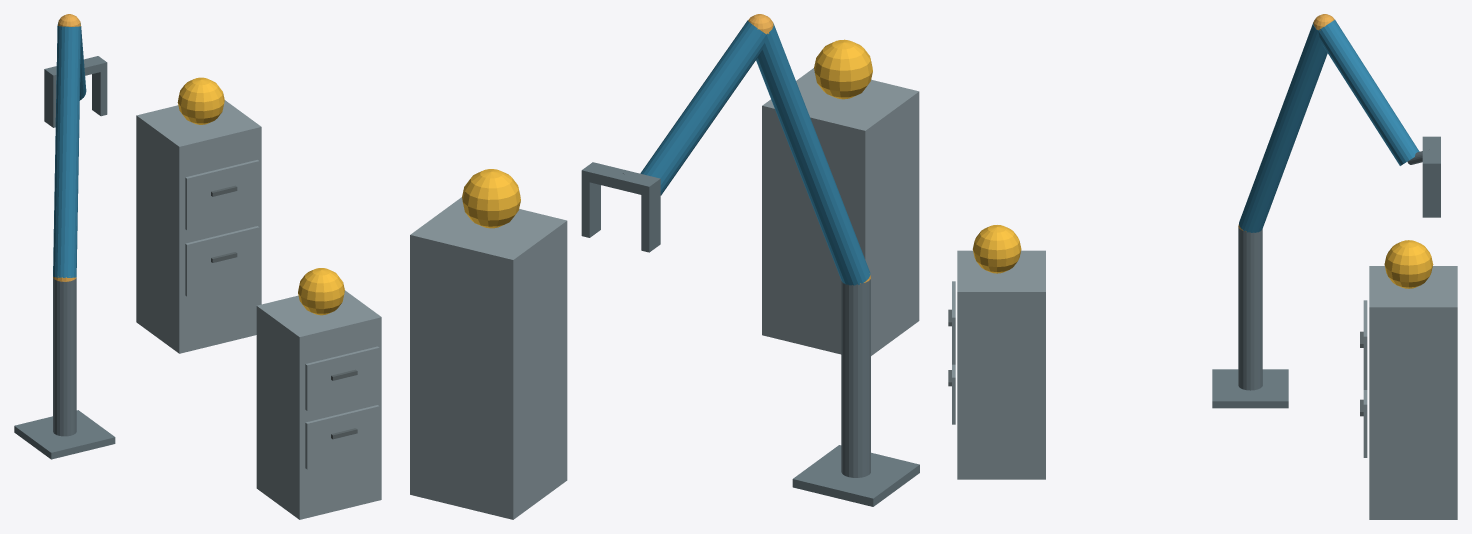
The picture shows the model from 3 angles, left to right: view 1: azimuth 30°, elevation 25°; view 2: azimuth 150°, elevation 25°; view 3: azimuth 270°, elevation 25°; orthographic projection. The views are drawn at different scales.
Parts seen in each view (by area): view 1: cabinet_2 body, cabinet_1 body, moving link 1, cabinet_2 drawer front, cabinet_2 drawer front.001, fixed post, cabinet_1 drawer front.001, cabinet_1 drawer front, pedestal, ball ball_2, released ball_1, gripper finger 1 (+2 smaller); view 2: cabinet_2 body, cabinet_1 body, moving link 1, fixed post, moving link 2, pedestal, ball ball_2, released ball_1, gripper bridge, gripper finger -1, gripper finger 1; view 3: cabinet_2 body, cabinet_1 body, moving link 1, fixed post, moving link 2, pedestal, ball ball_2, released ball_1, gripper finger 1, gripper bridge.
Part boxes in pixels (box(x1,y1,x2,y2)): cabinet_2 body: box(136, 100, 261, 353); cabinet_1 body: box(256, 290, 381, 519); moving link 1: box(53, 25, 81, 277); cabinet_2 drawer front: box(185, 226, 259, 296); cabinet_2 drawer front.001: box(185, 160, 259, 230); fixed post: box(53, 277, 76, 436); cabinet_1 drawer front.001: box(305, 346, 379, 410); cabinet_1 drawer front: box(305, 405, 379, 469); pedestal: box(14, 410, 115, 459); ball ball_2: box(177, 77, 224, 124); released ball_1: box(298, 268, 344, 315); gripper finger 1: box(92, 70, 107, 116); cabinet_2 body: box(410, 197, 567, 519); cabinet_1 body: box(762, 68, 919, 355); moving link 1: box(756, 23, 870, 285); fixed post: box(841, 279, 870, 477); moving link 2: box(640, 20, 766, 195); pedestal: box(792, 445, 919, 506); ball ball_2: box(462, 169, 520, 228); released ball_1: box(814, 39, 872, 99); gripper bridge: box(581, 162, 660, 196); gripper finger -1: box(641, 189, 660, 252); gripper finger 1: box(581, 180, 600, 237); cabinet_2 body: box(1369, 266, 1457, 519); cabinet_1 body: box(957, 250, 1045, 479); moving link 1: box(1239, 22, 1327, 232); fixed post: box(1238, 227, 1262, 390); moving link 2: box(1318, 20, 1419, 165); pedestal: box(1212, 369, 1288, 408); ball ball_2: box(1384, 240, 1433, 288); released ball_1: box(972, 225, 1021, 273); gripper finger 1: box(1422, 172, 1440, 217); gripper bridge: box(1422, 136, 1440, 171).
Size of the model in its own units: 1.12 by 1.44 by 1.67.
